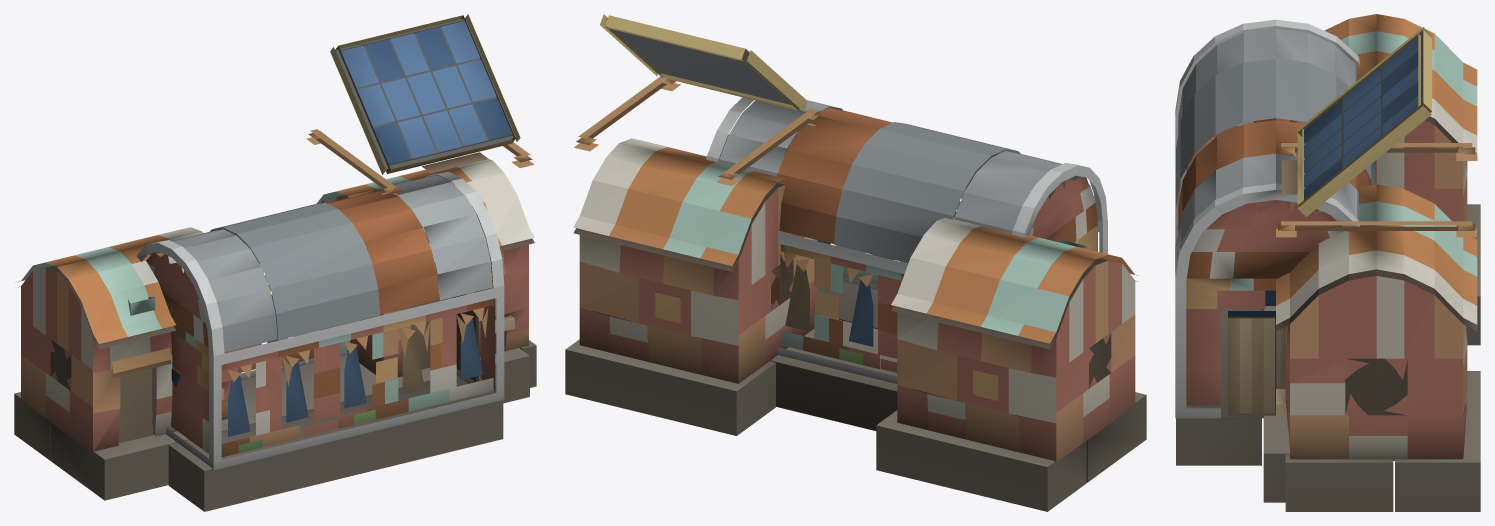
The model's file is terrace.lod.glb.
3 renders of one model, left to right at view 1: azimuth 30°, elevation 25°; view 2: azimuth 150°, elevation 25°; view 3: azimuth 270°, elevation 25°, orthographic. The views are drawn at different scales.
Visible parts, largest first — view 1: terrace; view 2: terrace; view 3: terrace.
Boxes of the visible parts, left/top/right/bottom form: terrace: left=14, top=14, right=536, bottom=511; terrace: left=565, top=14, right=1146, bottom=511; terrace: left=1175, top=14, right=1480, bottom=511.
Size of the model in its own units: 13.98 by 10.07 by 6.98.
